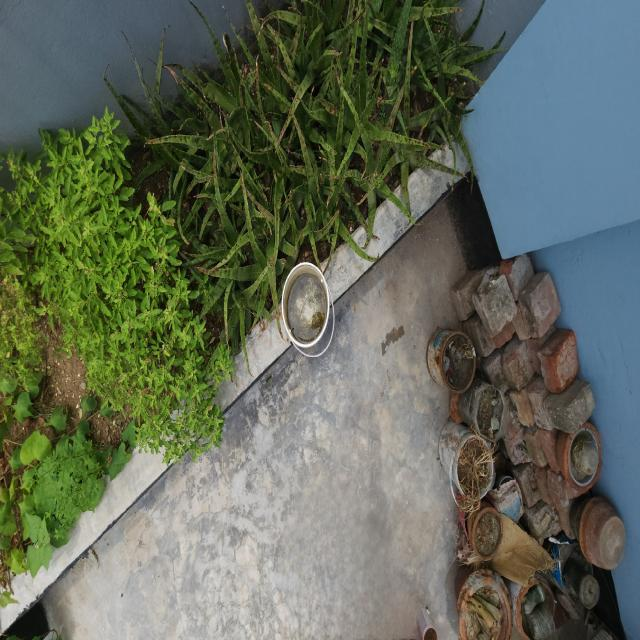Breeding Place: (158, 0, 473, 251), (1, 150, 190, 530), (436, 313, 627, 640), (272, 247, 346, 375)
